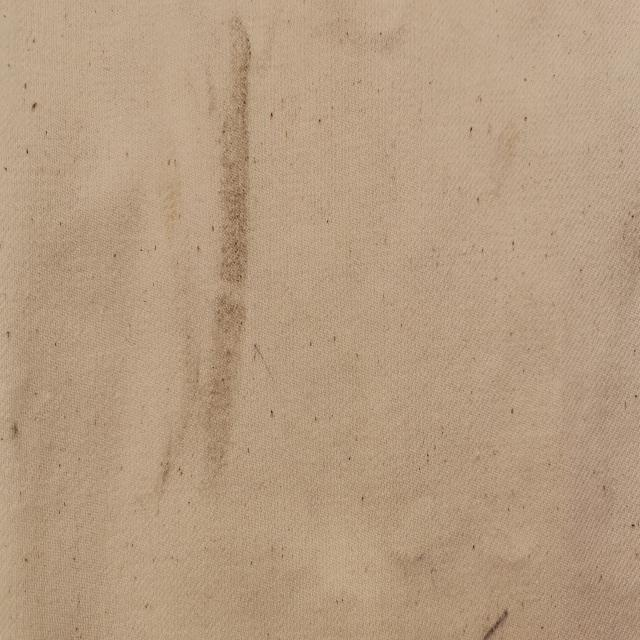taaaches: (134, 7, 282, 533), (475, 598, 512, 640)
